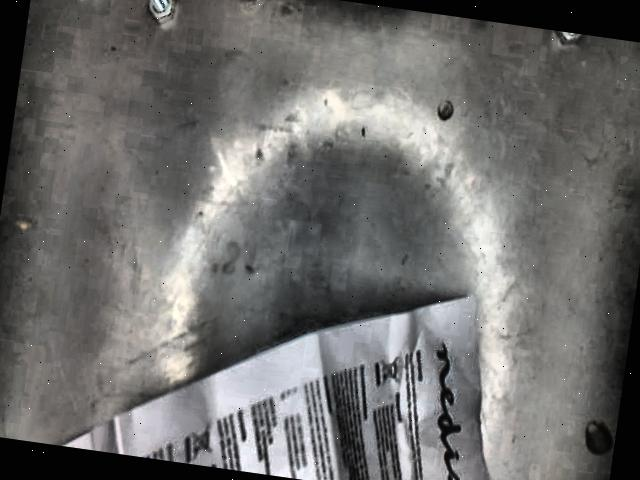Paper: (64, 294, 489, 480)
